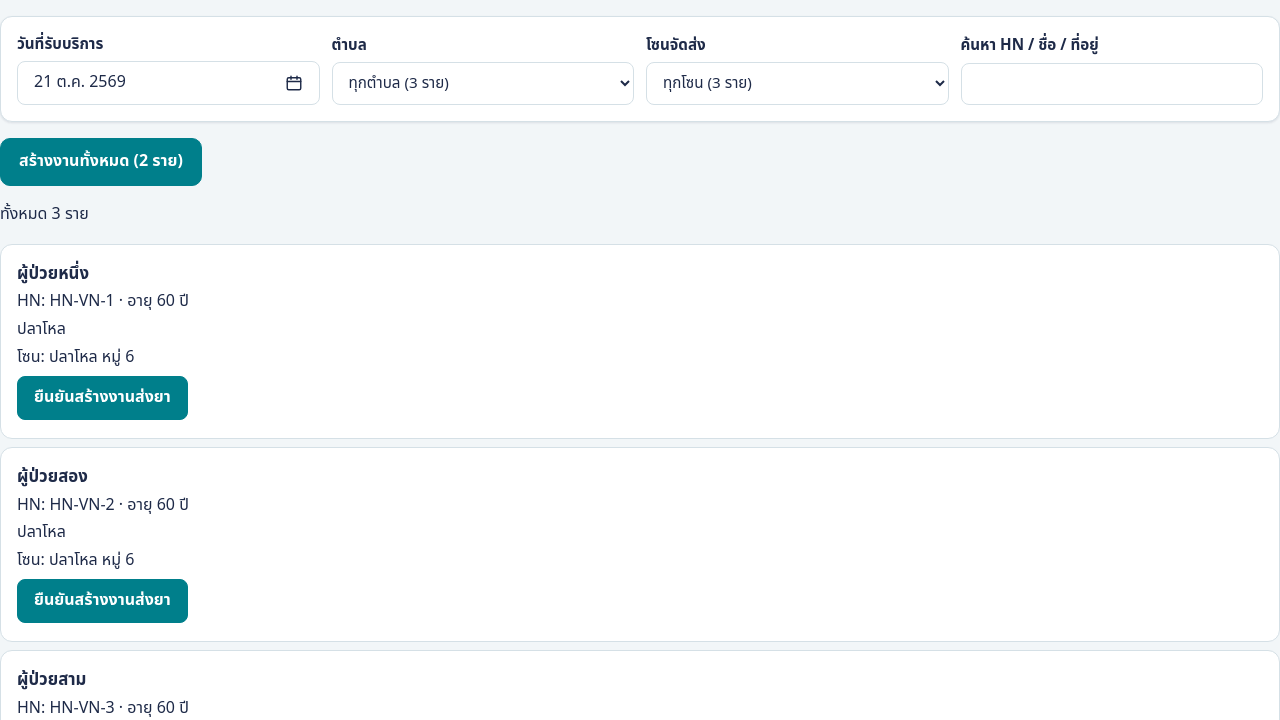
Test: filters by zone and confirms a whole zone in one request
Select "ปลาโหล หมู่ 6 (2 ราย)" in the dropdown labelled "โซนจัดส่ง" at [797, 83], box [646,62,948,105]
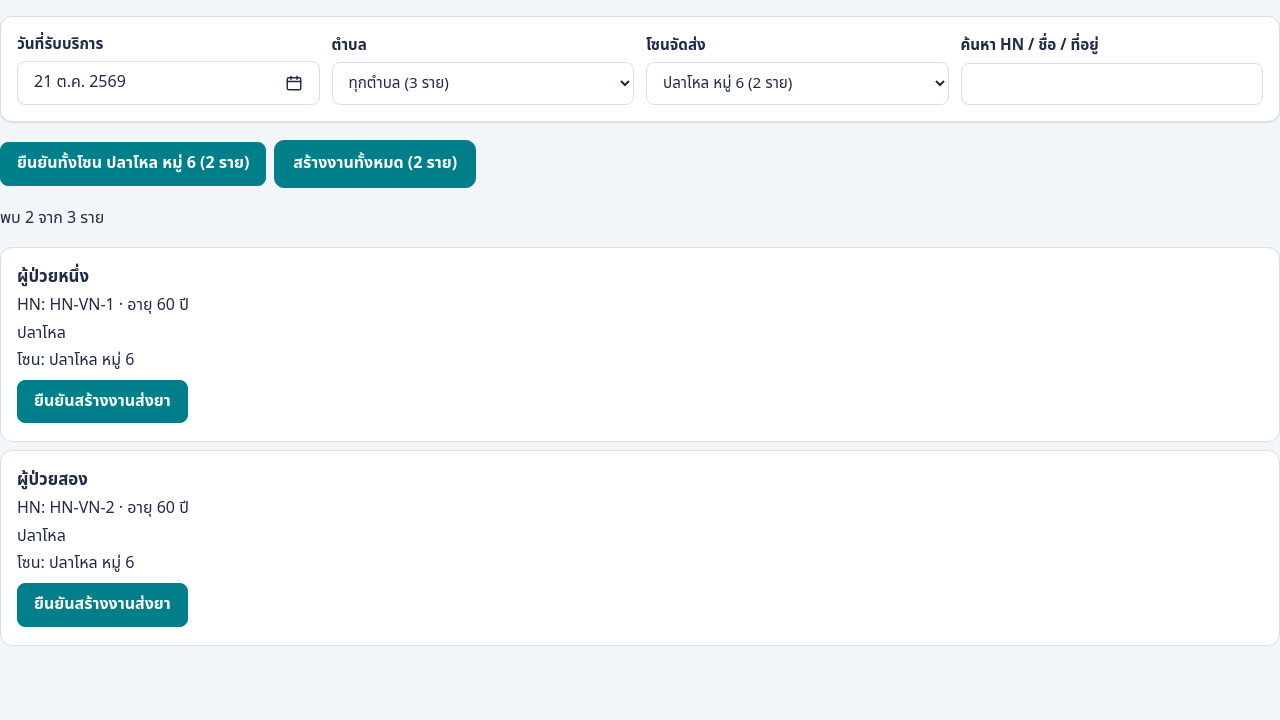
Check: the heading "ผู้ป่วยสาม" is gone
Click the button "ยืนยันทั้งโซน ปลาโหล หมู่ 6 (2 ราย)" at [133, 164], box [0,142,266,186]
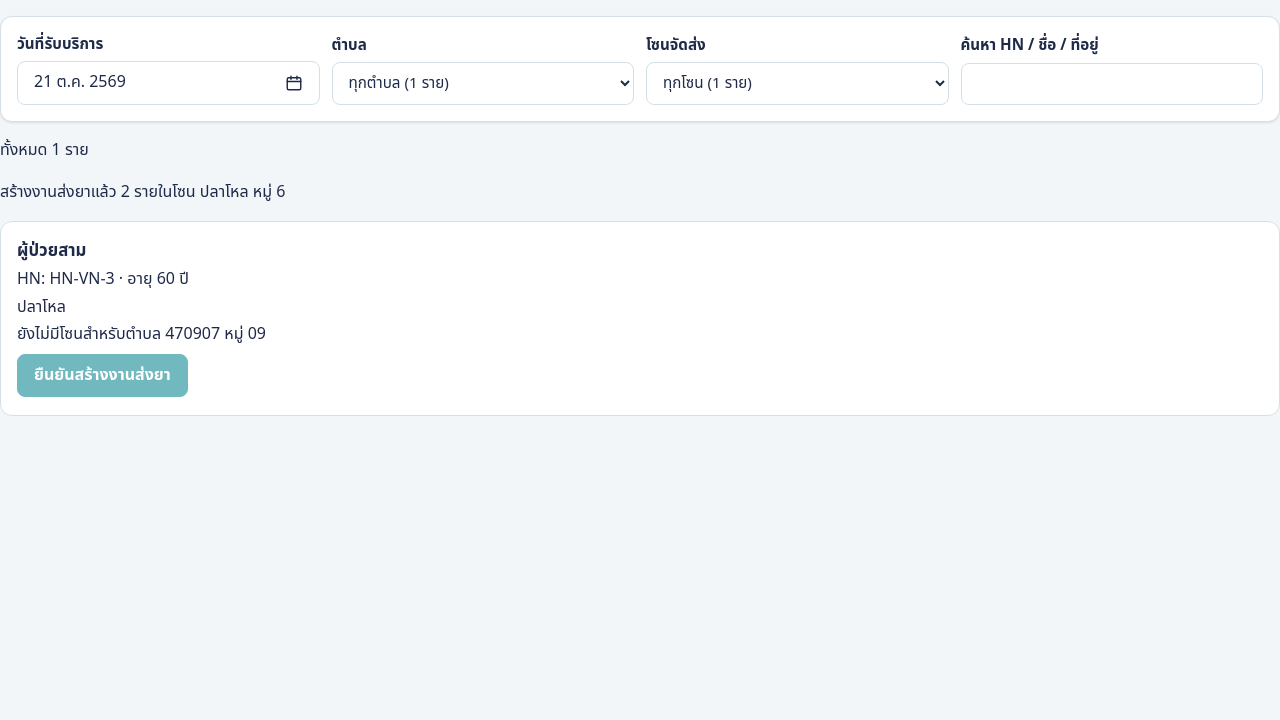
Check: the text "สร้างงานส่งยาแล้ว 2 รายในโซน ปลาโหล หมู่ 6" is shown, box [0,180,285,204]
Check: the heading "ผู้ป่วยหนึ่ง" is gone
Check: the heading "ผู้ป่วยสาม" is shown, box [17,238,86,264]
